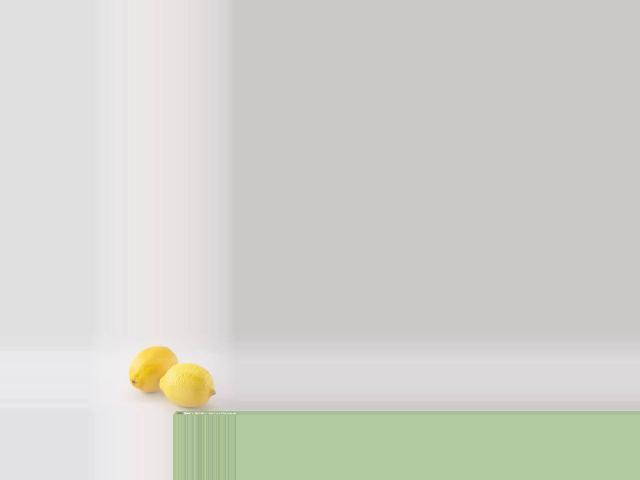lemon: (127, 344, 175, 388)
